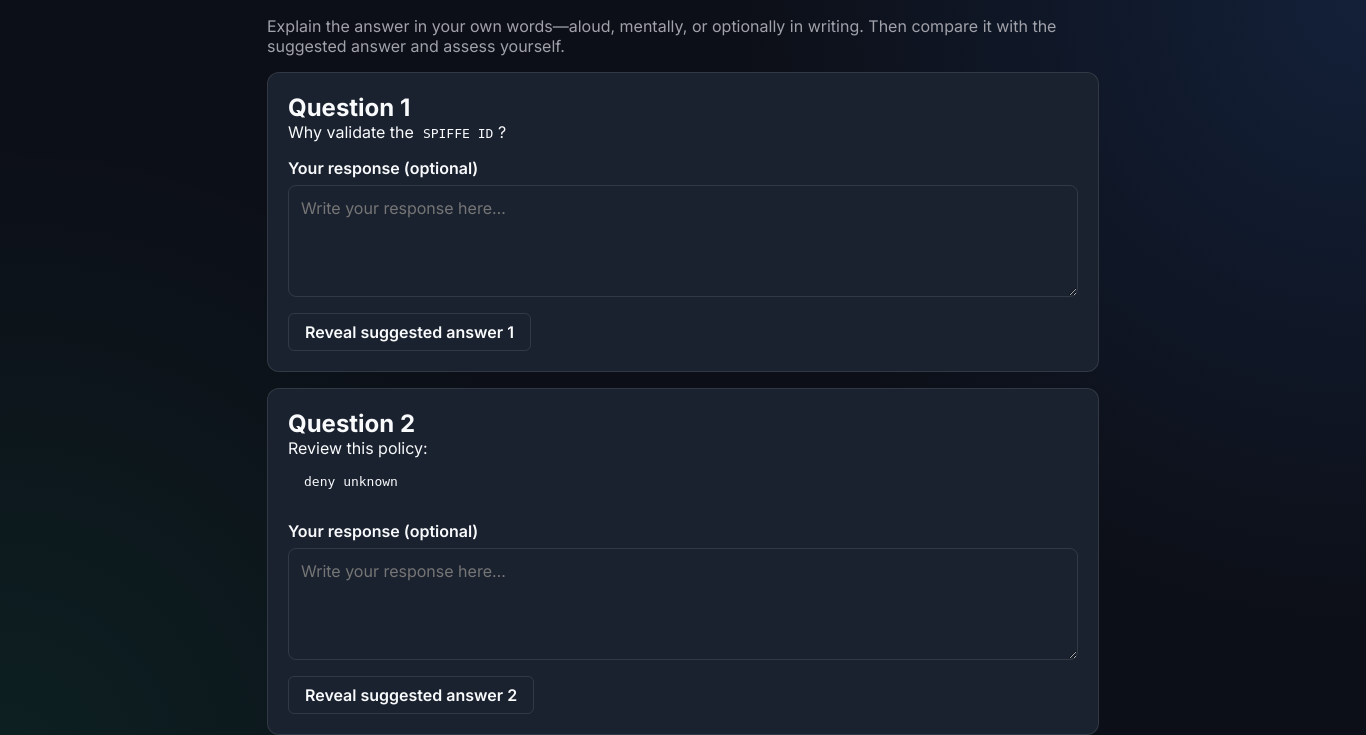
it: QuestionViewer › accepts a spoken or mental answer without requiring textarea input
Click the button "Reveal suggested answer 1" at (409, 332), box [288, 313, 531, 351]
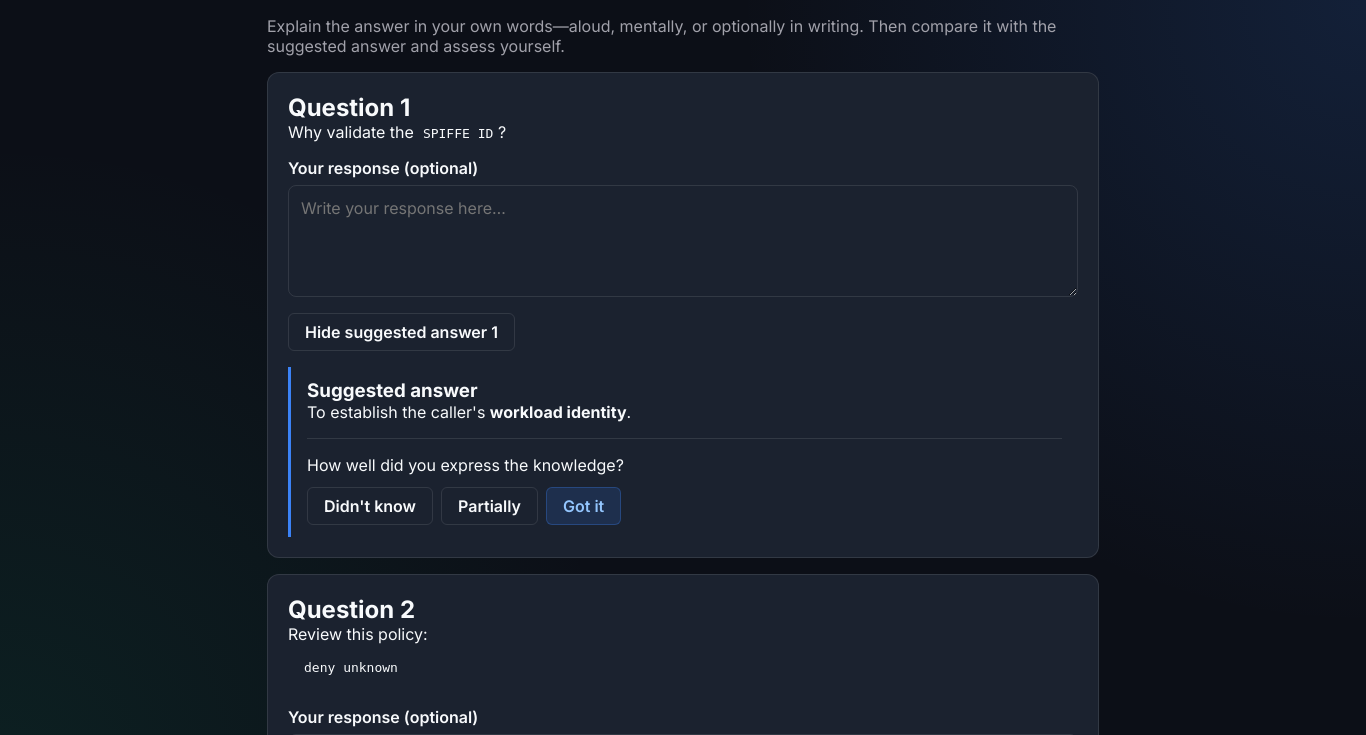
Result: the button "Didn't know" is enabled at [307, 487, 433, 525]
